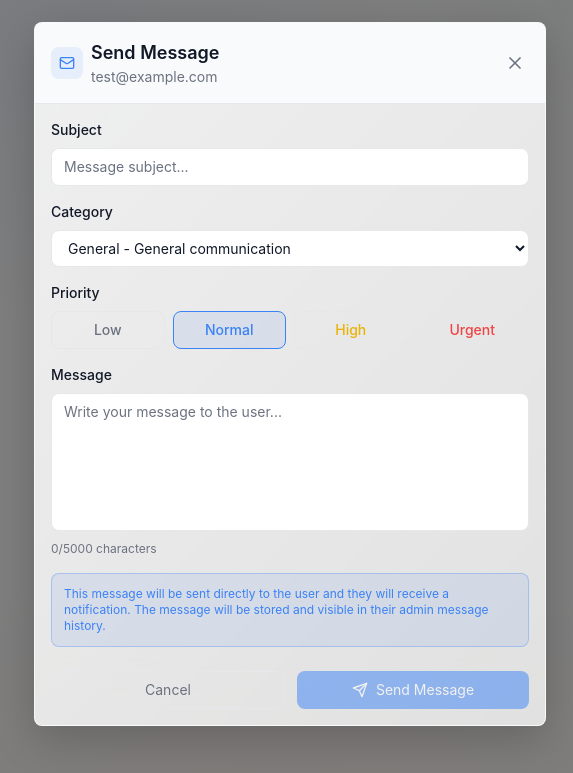
it: SendAdminMessageModal › submit button is enabled when subject and message are filled
In the field with placeholder "Message subject...": x=290, y=167 51,148 -> 529,186, type "Test Subject"
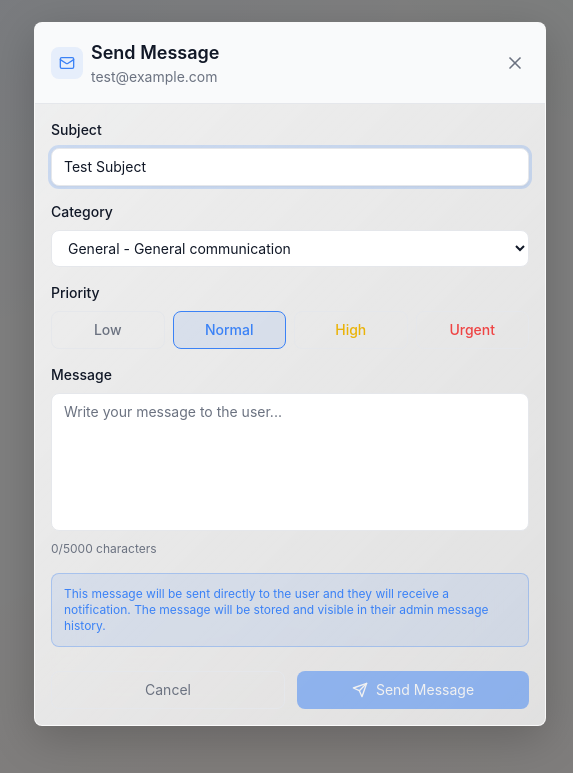
In the text box with placeholder "Write your message to the user...": x=290, y=462 51,393 -> 529,531, type "Test message content"
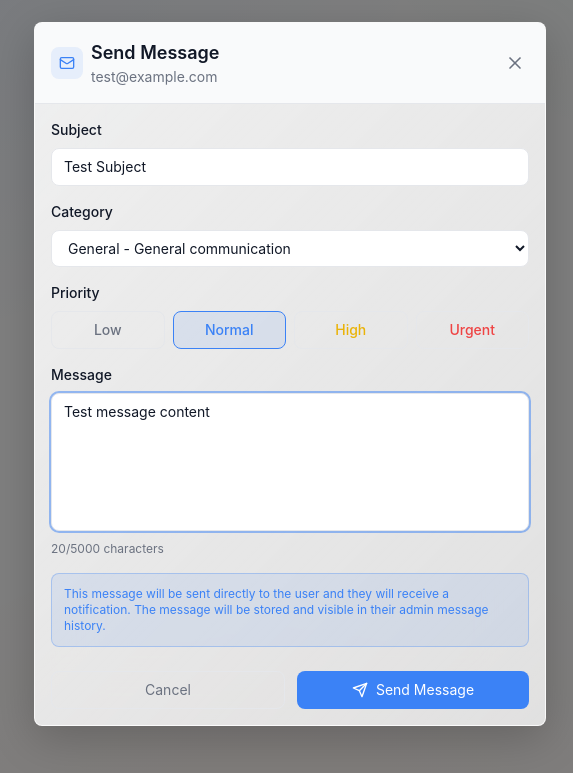
Result: the button "Send Message" is enabled at 297,671 -> 529,709
